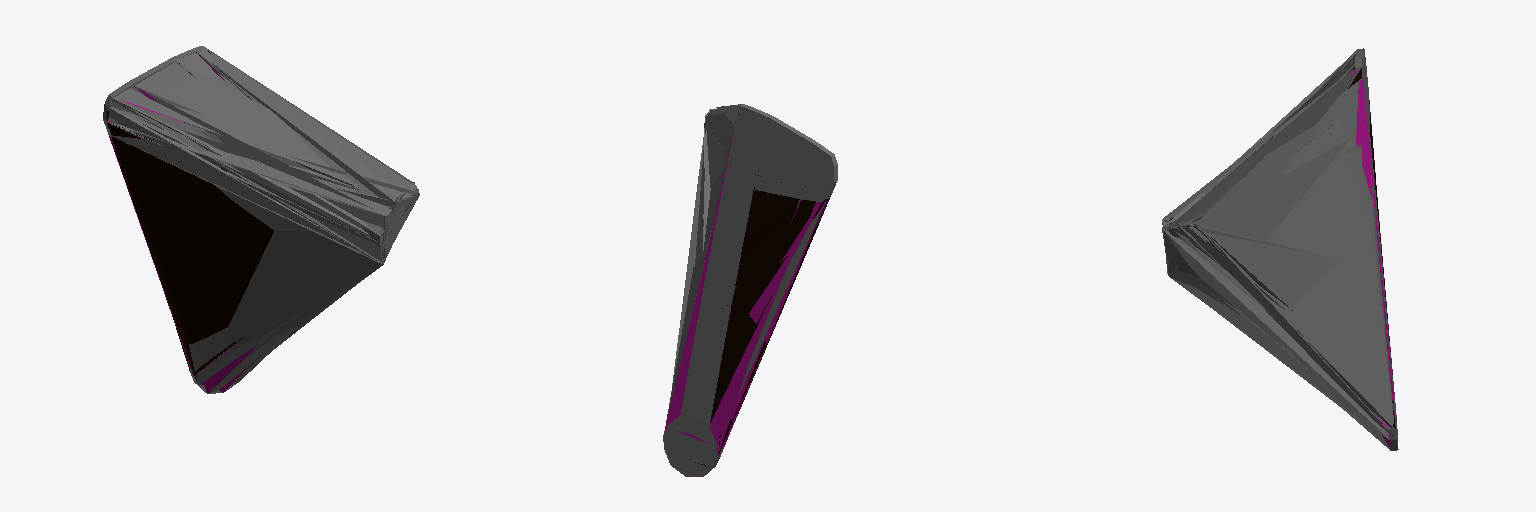
File: Mailbox_Toon.obj
The picture shows the model from 3 angles: view 1: azimuth 30°, elevation 25°; view 2: azimuth 150°, elevation 25°; view 3: azimuth 270°, elevation 25°; orthographic projection.
Visible parts, largest first — view 1: Mailbox, Woodstand, Turntable, Bux_Nub, Flag; view 2: Flag, Woodstand, Mailbox, Bux_Nub, Turntable; view 3: Mailbox, Bux_Nub, Flag.
Part boxes in pixels (x1,y1,x2,y2): Mailbox: (108, 47, 419, 393); Woodstand: (104, 51, 273, 390); Turntable: (108, 63, 418, 391); Bux_Nub: (107, 55, 259, 393); Flag: (103, 46, 238, 393); Flag: (663, 104, 837, 476); Woodstand: (695, 114, 833, 466); Mailbox: (666, 104, 829, 456); Bux_Nub: (663, 122, 828, 476); Turntable: (674, 188, 821, 469); Mailbox: (1162, 52, 1394, 449); Bux_Nub: (1338, 51, 1395, 450); Flag: (1355, 48, 1398, 450).
Size of the model in its own units: 11.88 by 18.98 by 11.12.